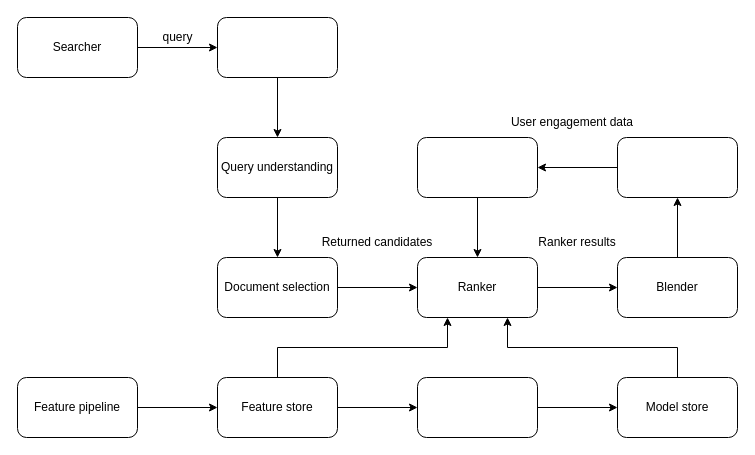
Image size: 755x455. Some labels were removed from this diagram. Each missing label, with the box of its shape:
Model training: (416, 376, 538, 438)
Query rewriting: (216, 16, 338, 78)
Search engine page: (616, 136, 738, 198)
Training data generation: (416, 136, 538, 198)
